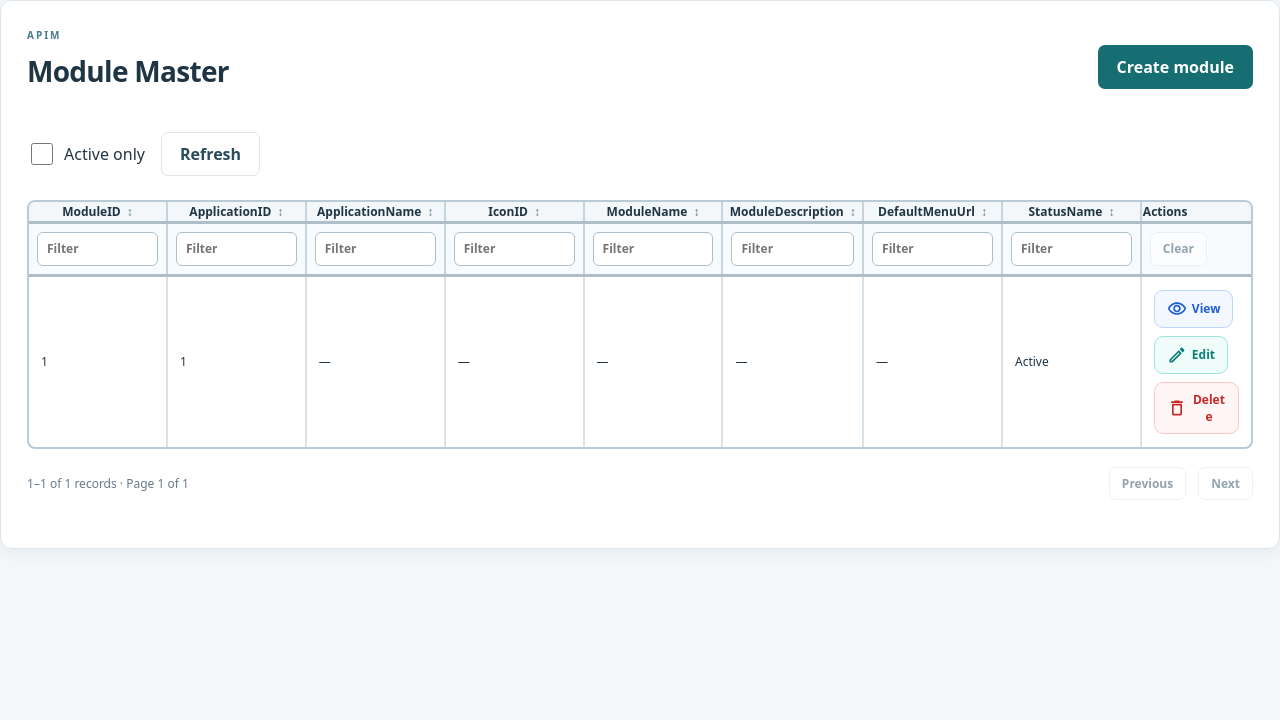
Test: opens row details and dismisses the module popup
The width and height of the screenshot is (1280, 720).
Click the button with aria-label "View module" at (1194, 308), box [1154, 290, 1234, 328]
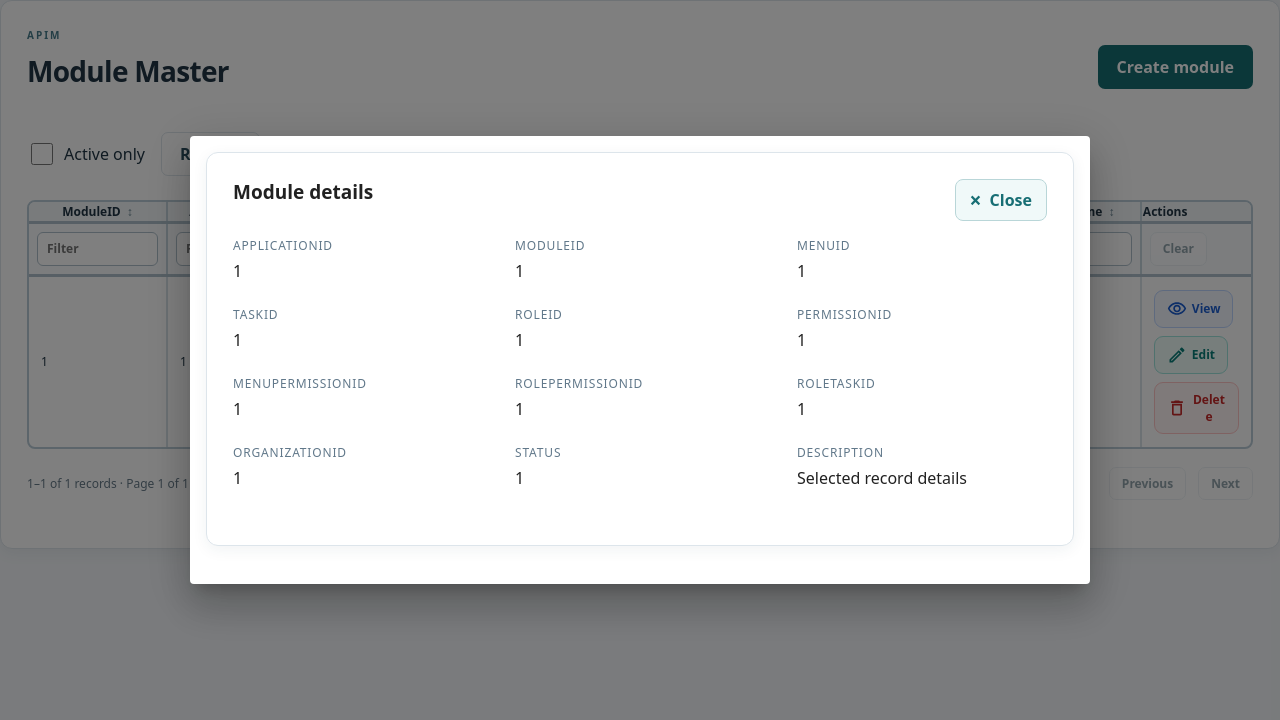
Now the text "Selected record details" is shown, box [797, 467, 967, 489]
Click the button "Close" at (1001, 200), box [955, 179, 1047, 221]
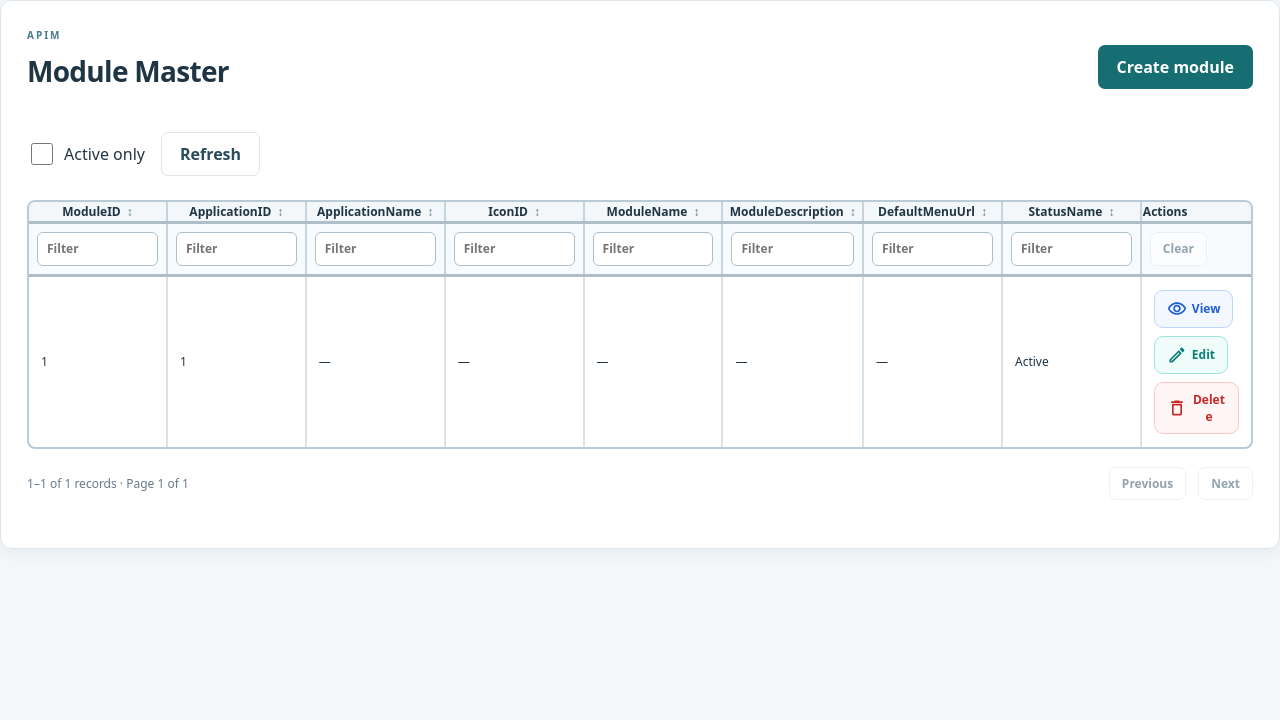
Now the dialog is gone
Click the button with aria-label "View module" at (1194, 308), box [1154, 290, 1234, 328]
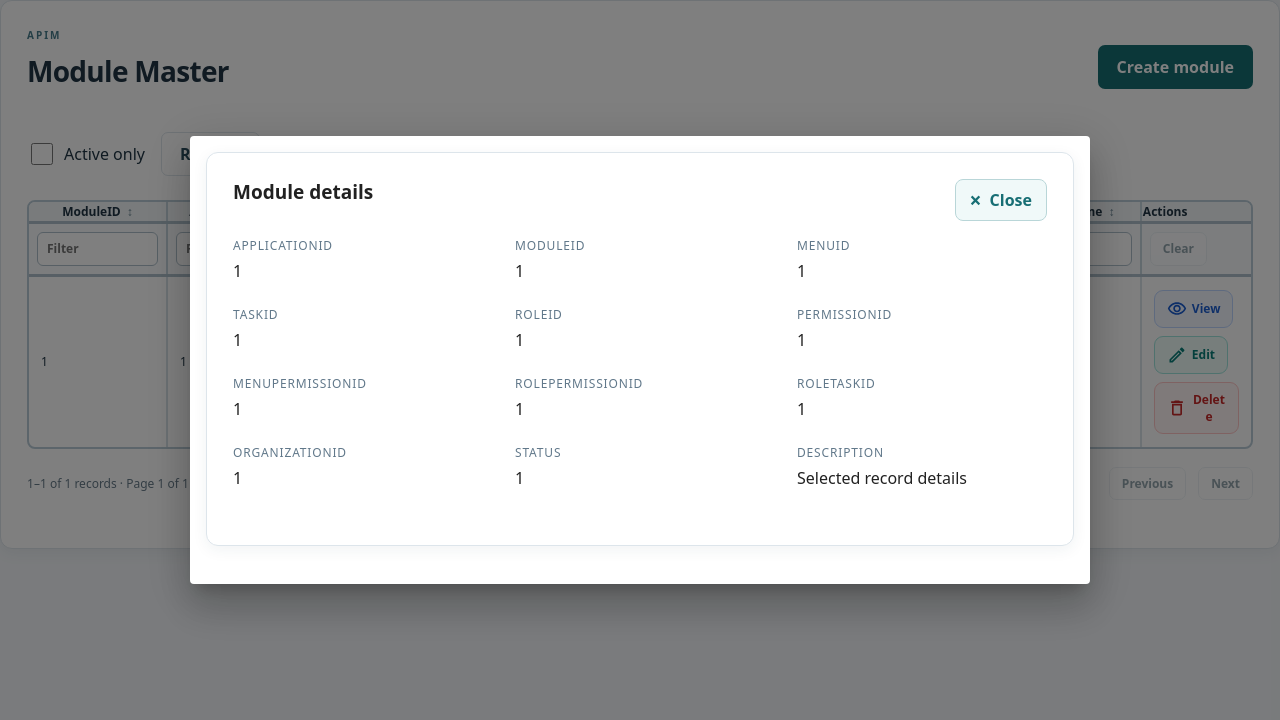
Press Escape in the dialog, box [190, 136, 1090, 584]
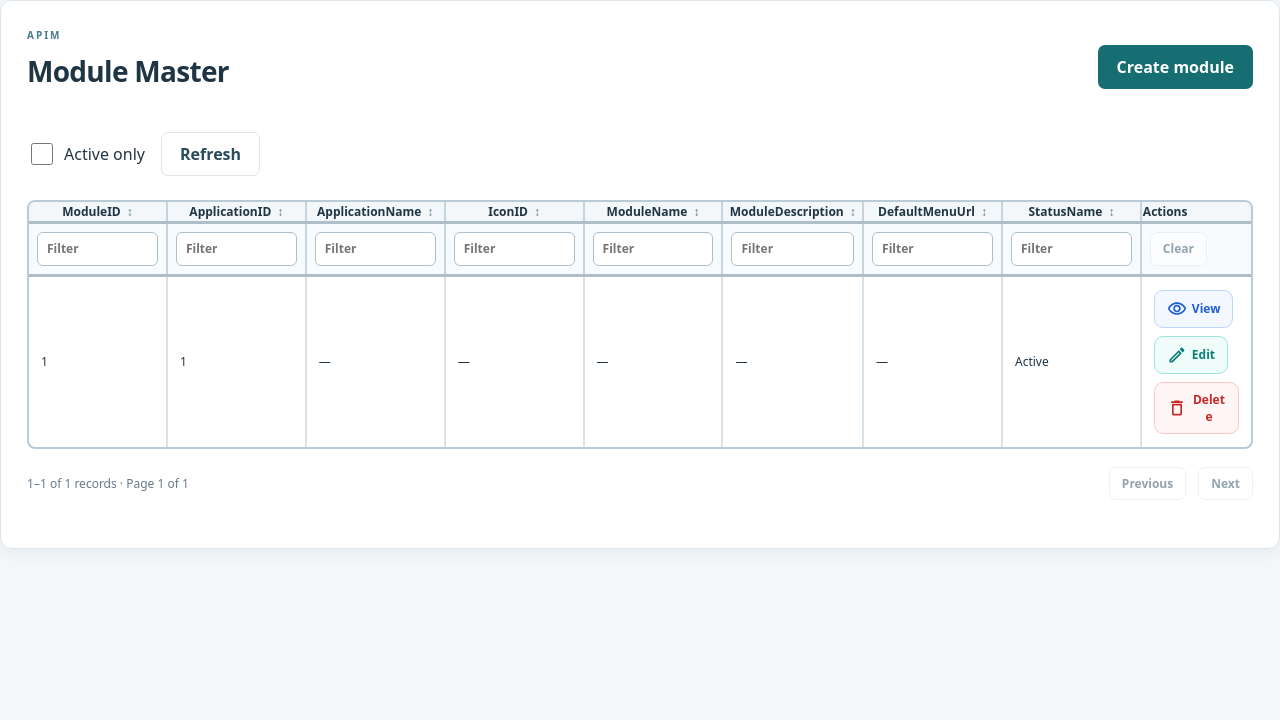
Now the dialog is gone
